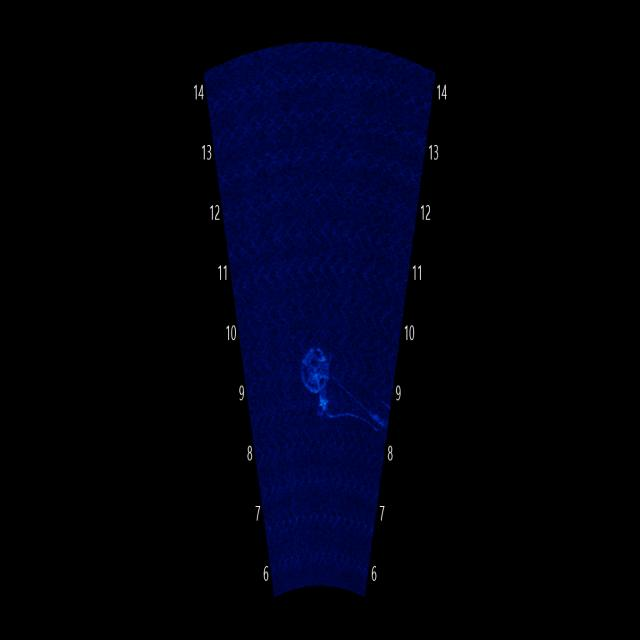circle: (293, 326, 335, 416)
